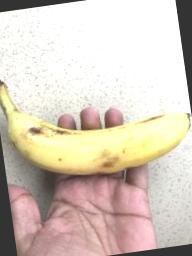Banana Ripe: (0, 55, 192, 202)
